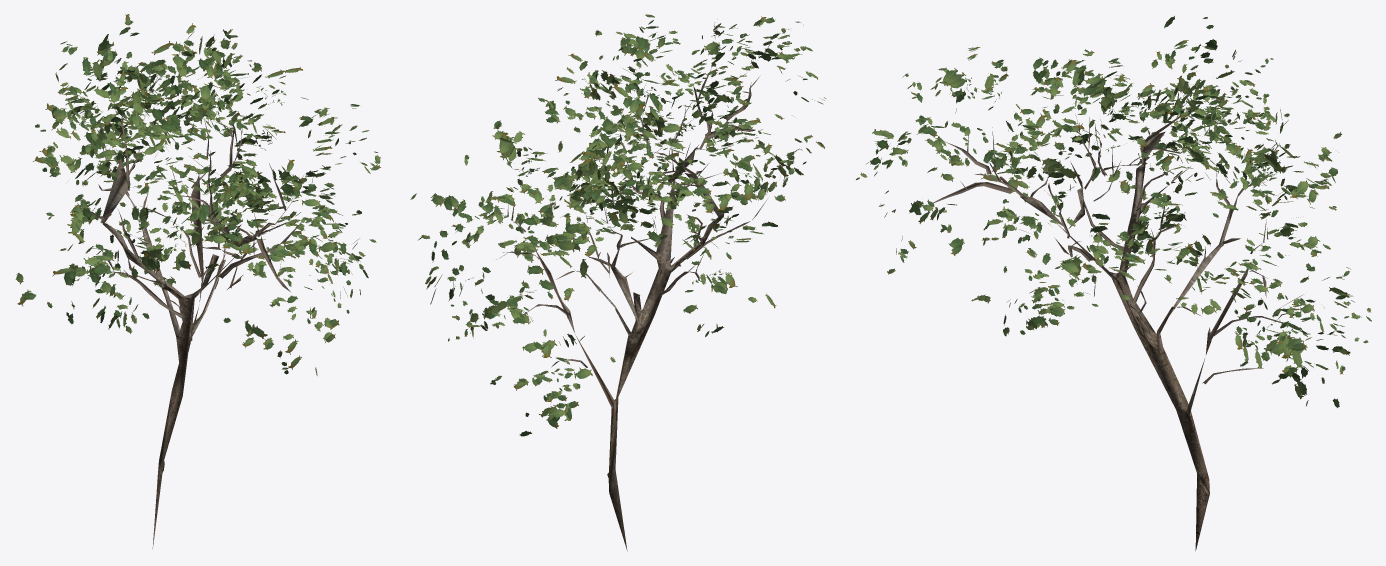
Rendered from birch.glb.
3 views of the same model, side by side, from view 1: azimuth 30°, elevation 25°; view 2: azimuth 150°, elevation 25°; view 3: azimuth 270°, elevation 25° (orthographic). The views are drawn at different scales.
Parts seen in each view (by area): view 1: lod1; view 2: lod1; view 3: lod1.
Part boxes in pixels (left/top/right/bottom): lod1: left=15, top=14, right=380, bottom=548; lod1: left=410, top=14, right=825, bottom=550; lod1: left=856, top=16, right=1371, bottom=550.
Bounding box in the file's own units: 7.13 × 11.01 × 10.3.
3 materials, 3 textured.
